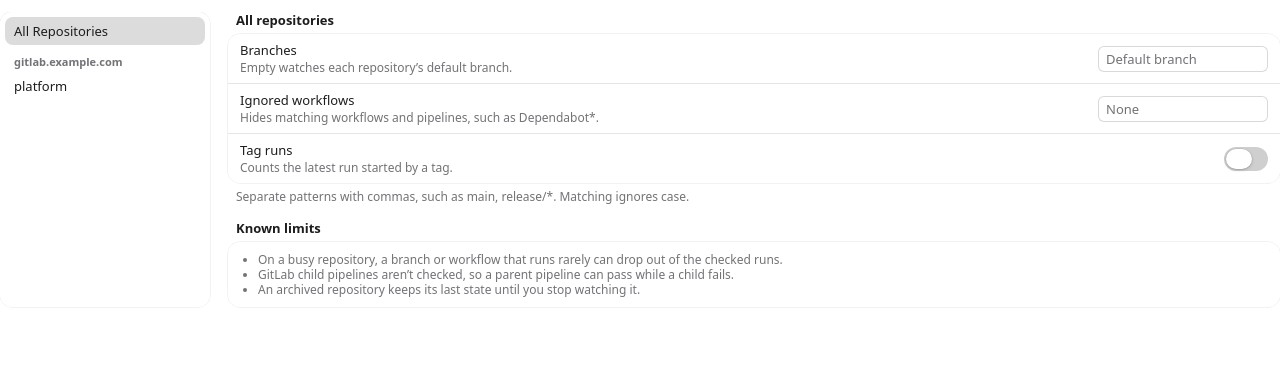
Scenario: organization filters › shows a GitLab organization with its host and the folder symbol without a known account
Click the option "platform" at (41, 86), box x1=14 y1=77 x2=67 y2=95
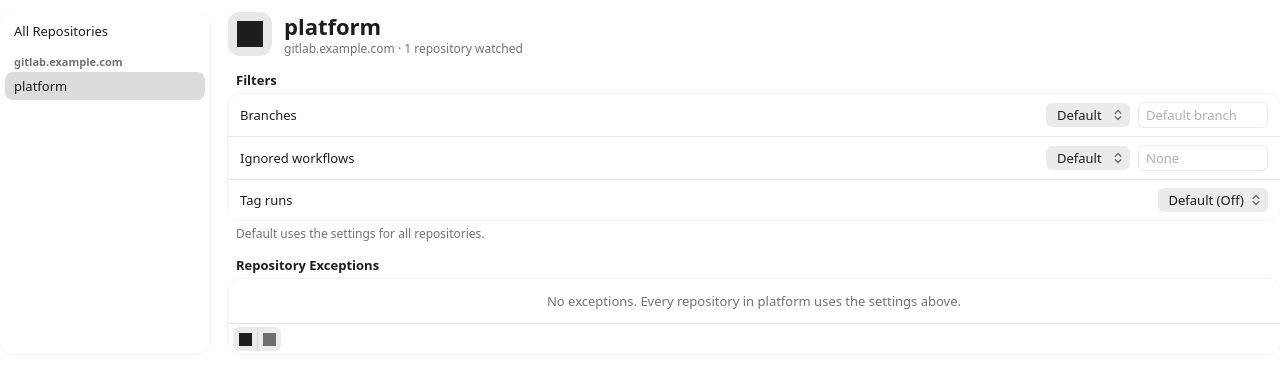
expect the text "gitlab.example.com · 1 repository watched" is shown: met, box x1=284 y1=40 x2=523 y2=56
expect the element with class "symbol--folder" is shown: met, box x1=237 y1=21 x2=263 y2=47
